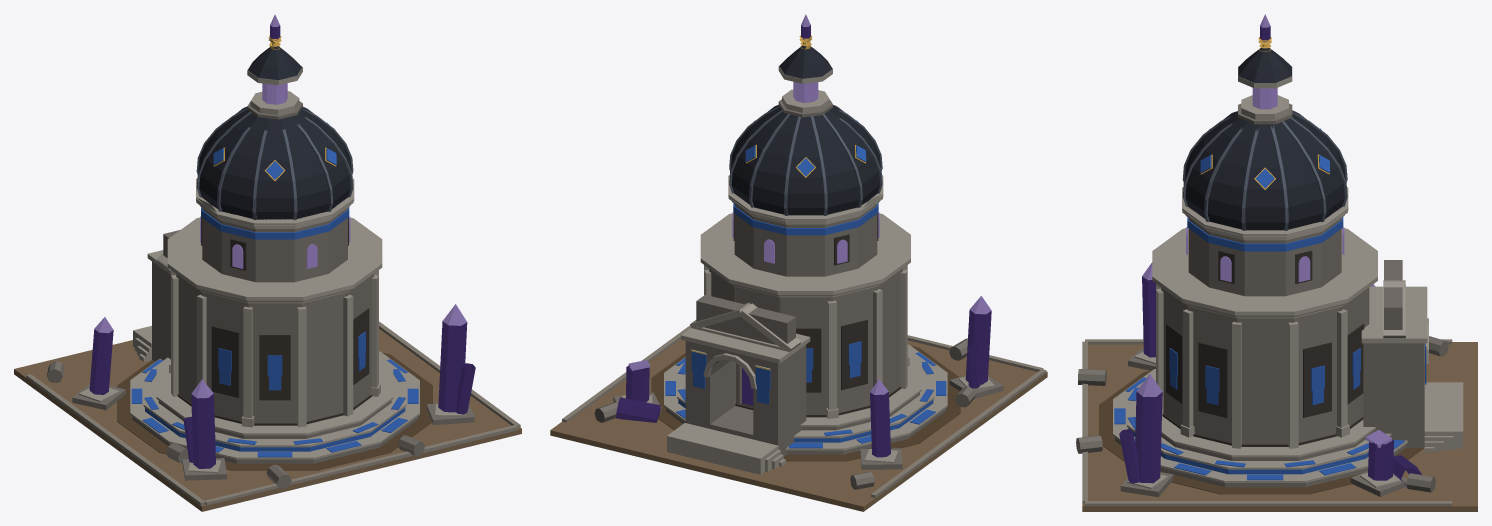
Rendered from 神秘圣地_手游_远.glb.
The picture shows the model from 3 angles, left to right: view 1: azimuth 30°, elevation 25°; view 2: azimuth 150°, elevation 25°; view 3: azimuth 270°, elevation 25°; orthographic projection. The views are drawn at different scales.
Visible parts, largest first — view 1: MS-主体, MS-自发光, MS-team; view 2: MS-主体, MS-自发光, MS-team; view 3: MS-主体, MS-自发光, MS-team.
Boxes of the visible parts, left/top/right/bottom form: MS-主体: left=14, top=35, right=521, bottom=511; MS-自发光: left=89, top=14, right=475, bottom=468; MS-team: left=131, top=123, right=418, bottom=457; MS-主体: left=550, top=35, right=1047, bottom=511; MS-自发光: left=616, top=14, right=991, bottom=457; MS-team: left=665, top=121, right=946, bottom=448; MS-主体: left=1076, top=37, right=1477, bottom=511; MS-自发光: left=1119, top=14, right=1421, bottom=486; MS-team: left=1114, top=128, right=1426, bottom=480.
Bounding box in the file's own units: 13.7 × 16.18 × 14.17.
4 materials, 2 textured.
